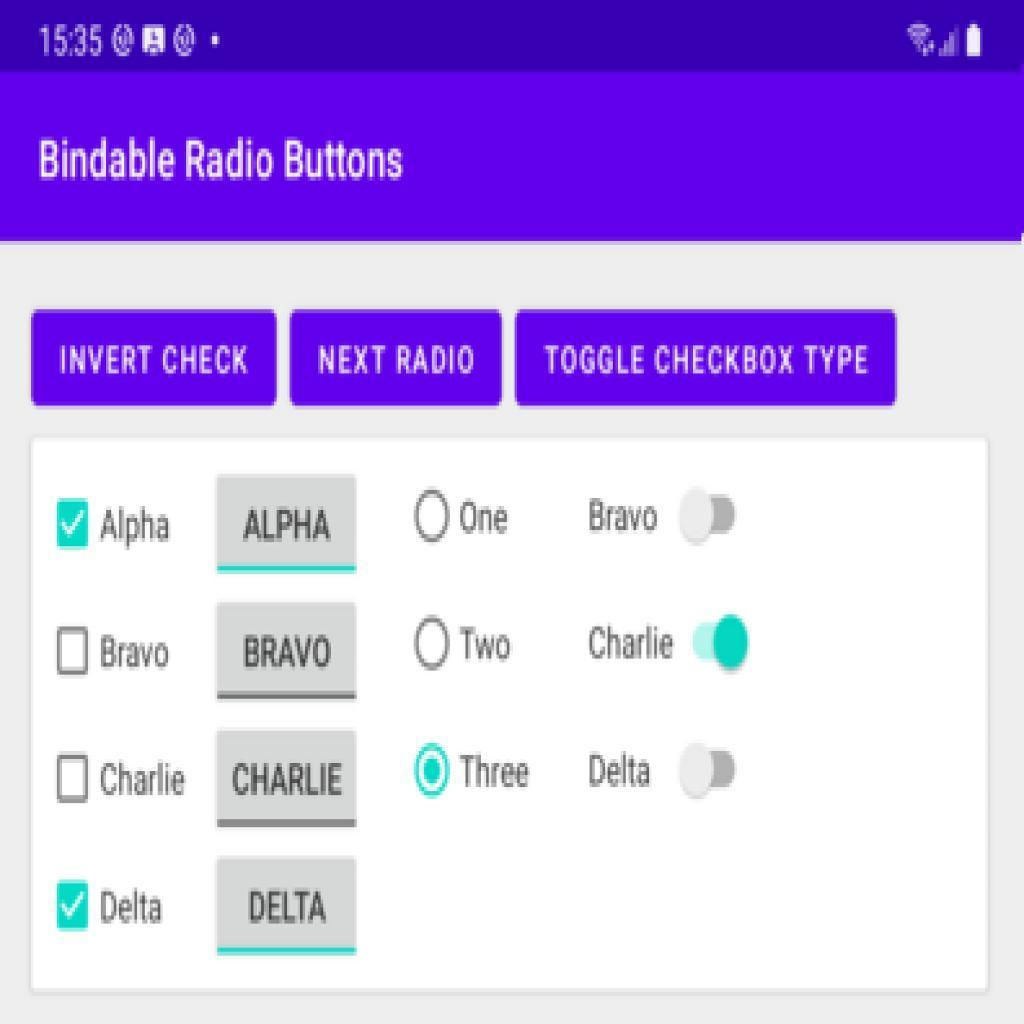button: (514, 311, 896, 406), (34, 311, 278, 406), (290, 311, 503, 406), (217, 728, 359, 830), (216, 474, 358, 574), (219, 601, 358, 702), (217, 857, 356, 956)
checkbox: (56, 753, 90, 806), (56, 881, 89, 932), (58, 500, 89, 551), (57, 627, 89, 676)
label: (586, 619, 677, 668), (99, 755, 187, 804), (100, 501, 172, 553), (99, 629, 172, 676), (458, 749, 534, 794), (589, 747, 656, 795), (100, 885, 167, 929), (588, 496, 660, 536), (461, 621, 515, 667), (460, 496, 509, 539)
radio: (413, 742, 453, 801), (413, 487, 452, 547), (415, 615, 451, 673)
switch: (679, 486, 738, 551), (678, 742, 740, 800), (693, 616, 751, 676)
